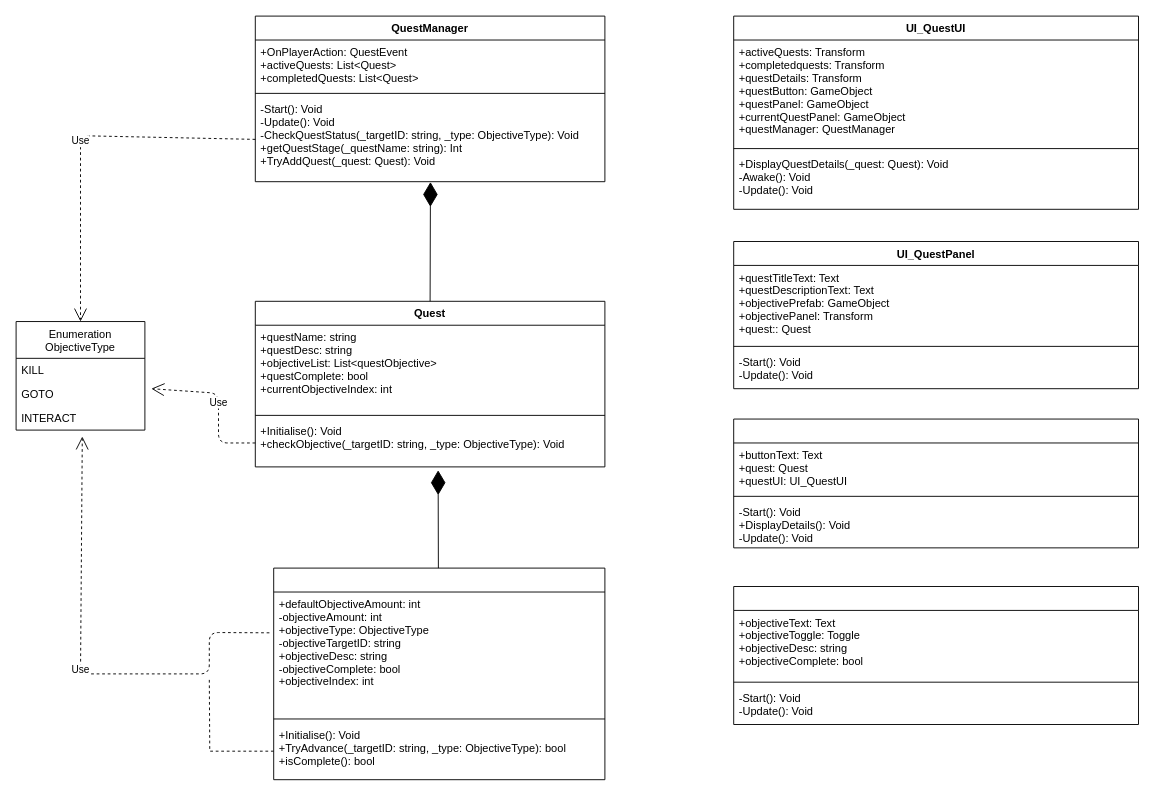
Some shapes in this 1155 by 799 pixel diagram are drawn without their labels. The box of each missing label's shape, as (x1, y1, x2, y2) in pixels:
questObjective: (273, 567, 605, 780)
UI_Objective: (733, 586, 1138, 724)
UI_QuestButton: (733, 418, 1138, 548)
